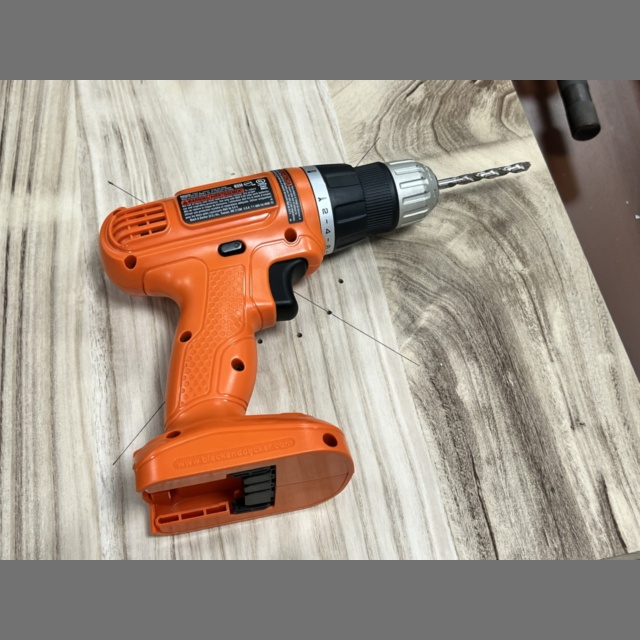drill: (100, 160, 529, 534)
